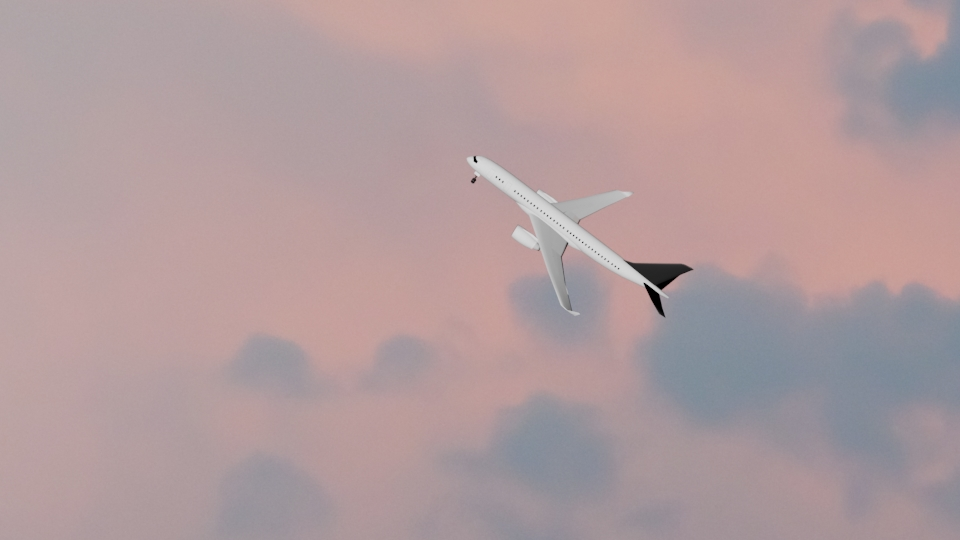plane: (466, 152, 694, 319)
